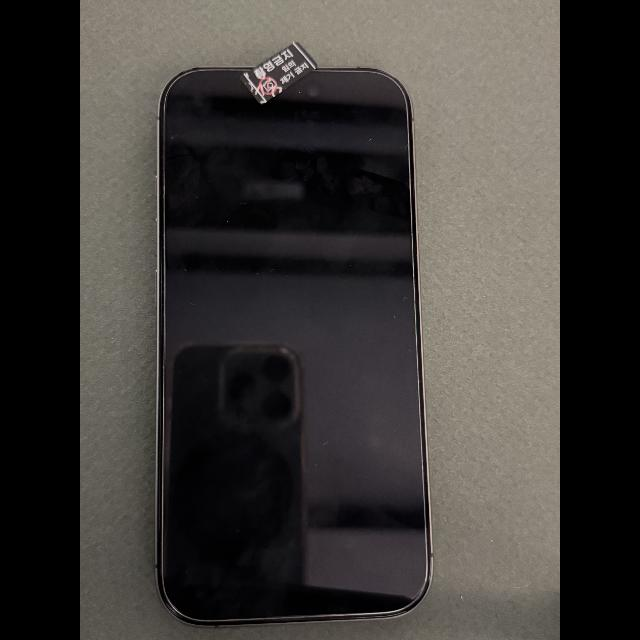lens: (308, 83, 320, 96)
phone: (155, 67, 434, 628)
sticker: (240, 44, 319, 105)
